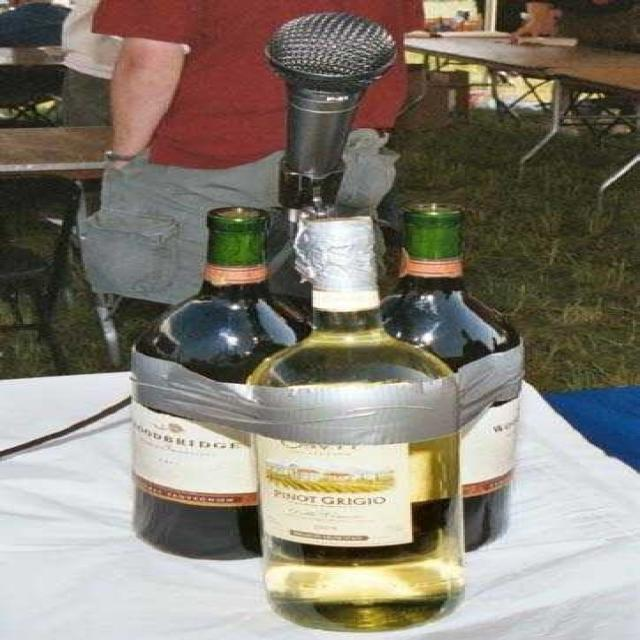microphone: (262, 14, 398, 212)
